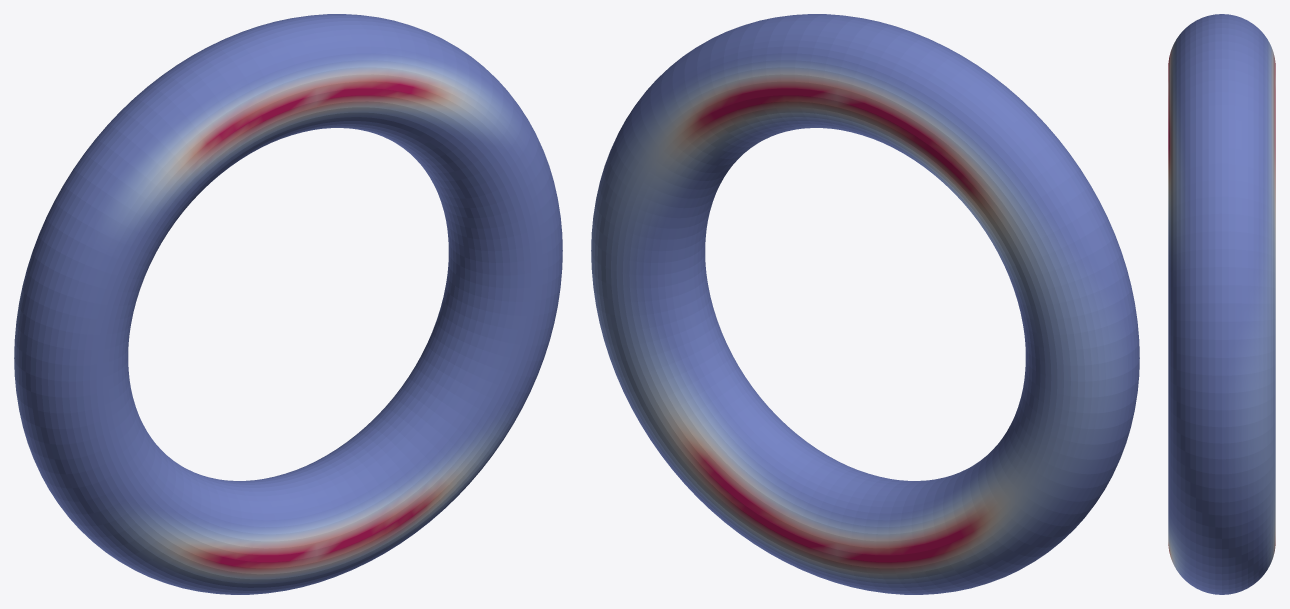
3 renders of one model, left to right at view 1: azimuth 30°, elevation 25°; view 2: azimuth 150°, elevation 25°; view 3: azimuth 270°, elevation 25°, orthographic. The views are drawn at different scales.
Parts seen in each view (by area): view 1: world; view 2: world; view 3: world.
Boxes of the visible parts, <box> form: world: <box>14,14,562,594</box>; world: <box>591,14,1139,594</box>; world: <box>1168,14,1275,594</box>.
Bounding box in the file's own units: 18 × 18 × 3.33.
